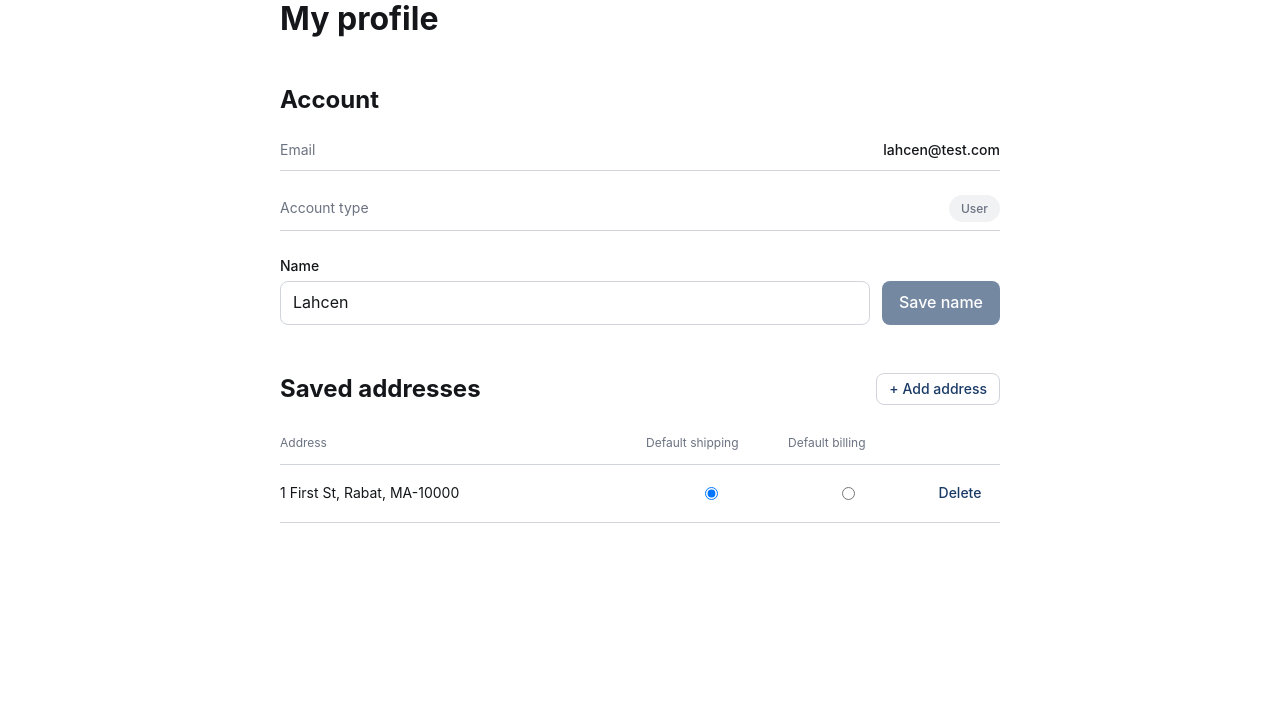
Test: ProfilePage › warns in the confirm dialog when deleting an address that IS a current default
The width and height of the screenshot is (1280, 720).
Check: the text "1 First St, Rabat, MA-10000" is shown, box x1=280 y1=484 x2=459 y2=501
Click the button with aria-label "Delete address: 1 First St, Rabat, MA-10000": (960, 494) x1=920 y1=477 x2=1000 y2=510
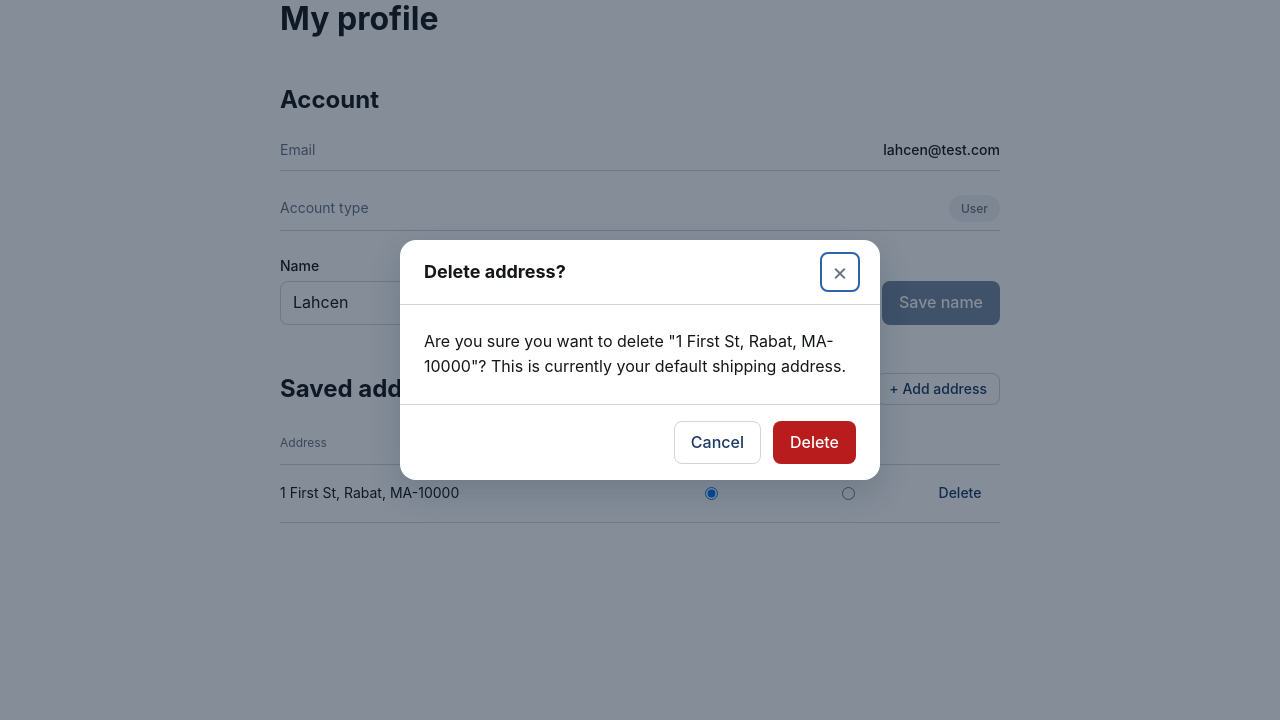
Check: the text "This is currently your default shipping address." is shown, box x1=424 y1=331 x2=846 y2=376
